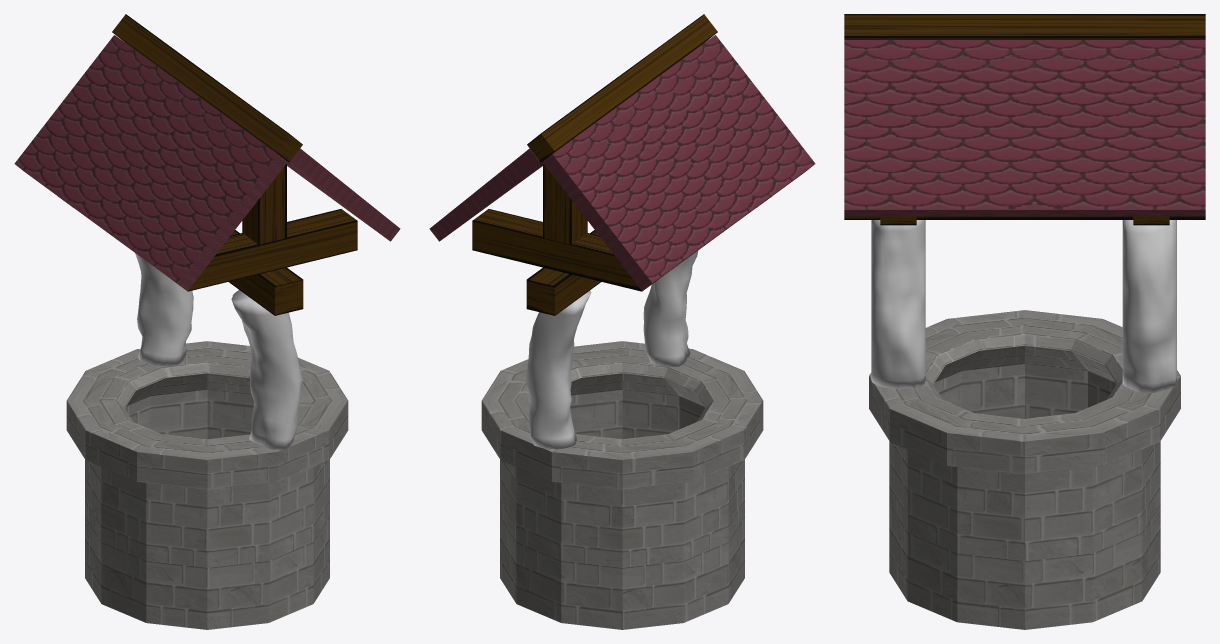
File: Puit.fbx
The picture shows the model from 3 angles, left to right: view 1: azimuth 30°, elevation 25°; view 2: azimuth 150°, elevation 25°; view 3: azimuth 270°, elevation 25°; orthographic projection. The views are drawn at different scales.
Parts seen in each view (by area): view 1: PuitBase, Toit2, Pillier1, Poutre2, Poutre1.001, Pillier2, Toit1, Poutre1, Poutre2.001; view 2: PuitBase, Toit2, Pillier2, Poutre3, Poutre1.001, Pillier1, Toit1, Poutre1, Poutre2.002; view 3: PuitBase, Toit1, Poutre1.001, Pillier2, Pillier1, Poutre1.
Part boxes in pixels (x1,y1,x2,y2): PuitBase: (66, 341, 348, 629); Toit2: (14, 35, 287, 290); Pillier1: (231, 290, 301, 449); Poutre2: (174, 209, 357, 291); Poutre1.001: (112, 14, 302, 162); Pillier2: (135, 253, 193, 365); Toit1: (279, 148, 400, 241); Poutre1: (228, 230, 303, 315); Poutre2.001: (242, 164, 286, 244); PuitBase: (481, 341, 763, 629); Toit2: (542, 35, 815, 290); Pillier2: (525, 290, 591, 449); Poutre3: (472, 209, 655, 291); Poutre1.001: (527, 14, 717, 162); Pillier1: (643, 250, 698, 366); Toit1: (429, 148, 550, 241); Poutre1: (526, 230, 601, 315); Poutre2.002: (543, 164, 587, 244); PuitBase: (869, 310, 1180, 629); Toit1: (844, 40, 1205, 216); Poutre1.001: (844, 14, 1205, 39); Pillier2: (1122, 220, 1176, 393); Pillier1: (871, 220, 925, 388); Poutre1: (844, 216, 1205, 219).
Bounding box in the file's own units: 173 × 341 × 200.
